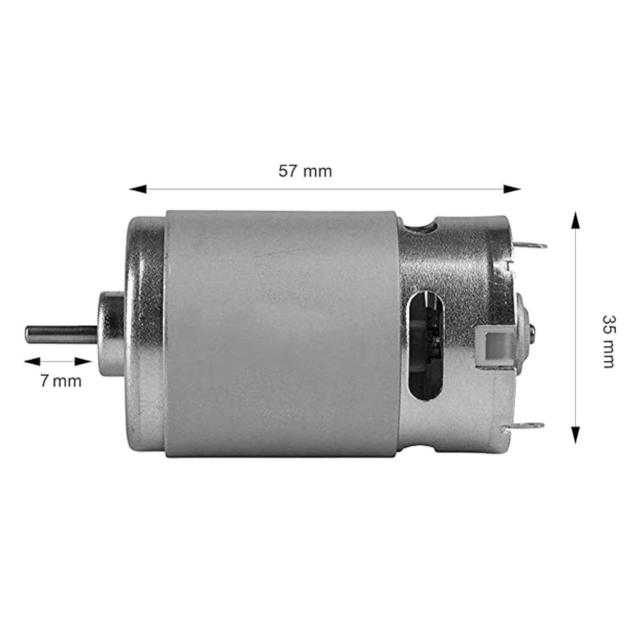motor: (26, 203, 544, 455)
